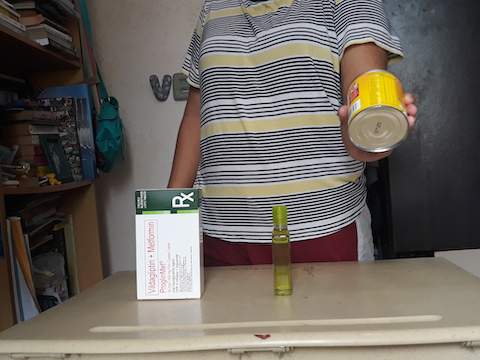bottle: (267, 200, 301, 298)
box: (130, 181, 214, 308)
can: (344, 65, 410, 157)
grab: (400, 88, 419, 129)
